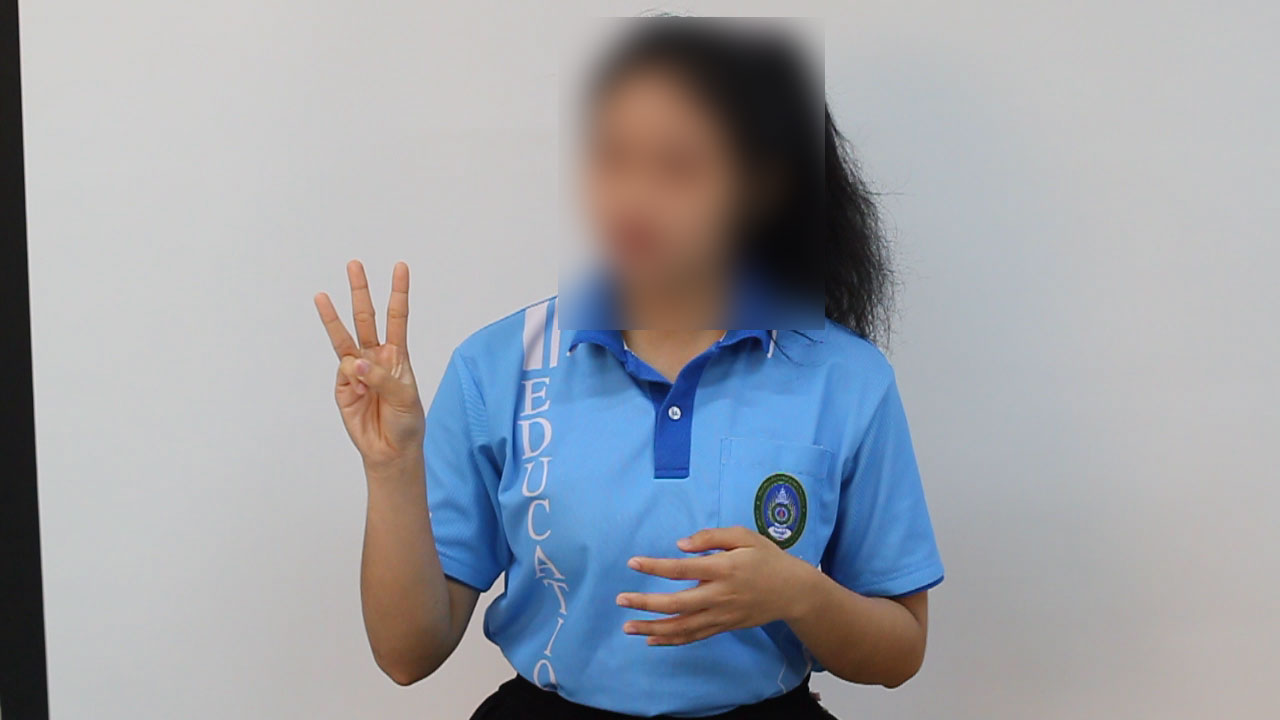wor: (304, 249, 438, 474)
